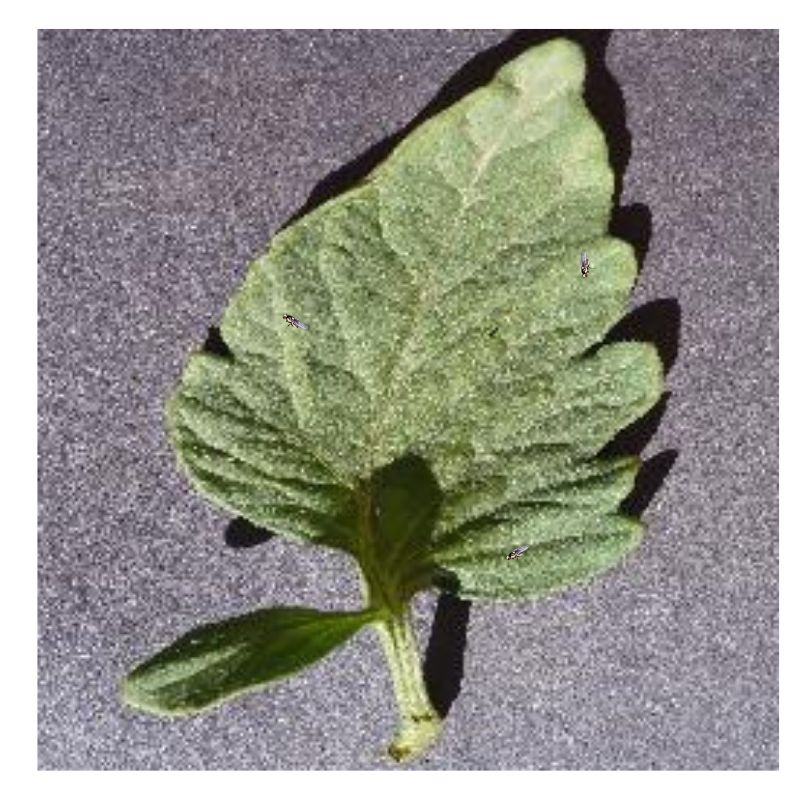liriomyza: (279, 310, 309, 330), (506, 542, 529, 563), (578, 249, 591, 281)
